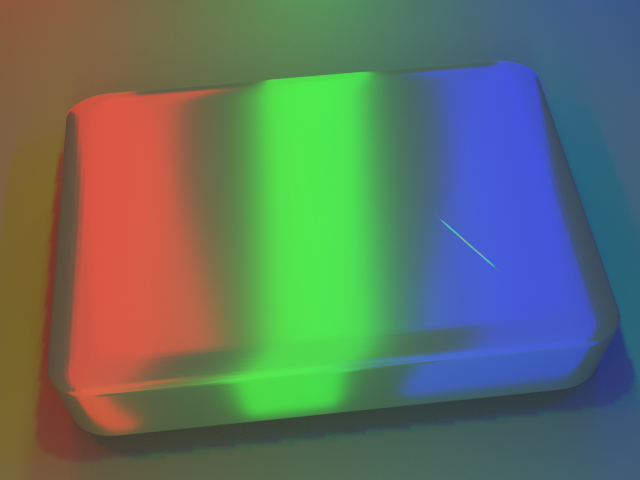scratch: (297, 144, 597, 368)
